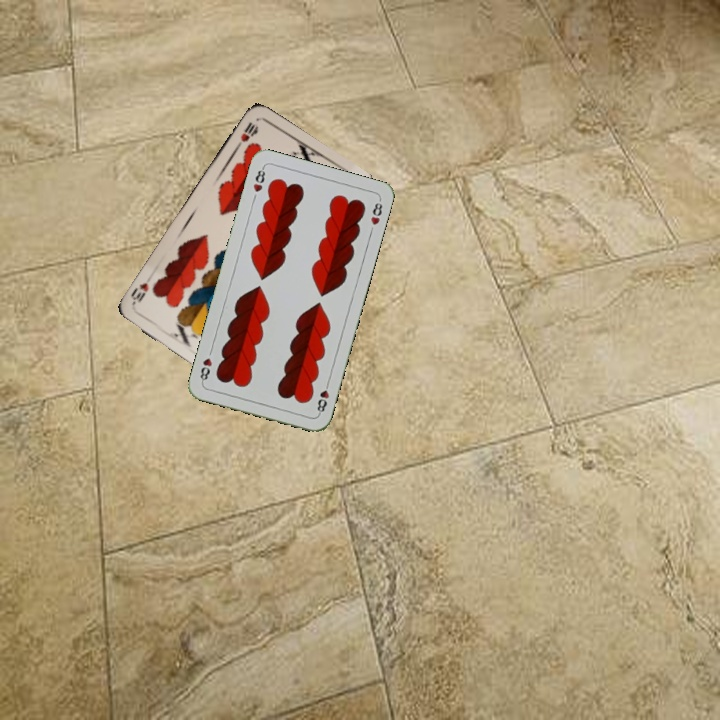H10: (232, 118, 260, 151)
H8: (313, 377, 332, 417), (249, 163, 268, 195)
